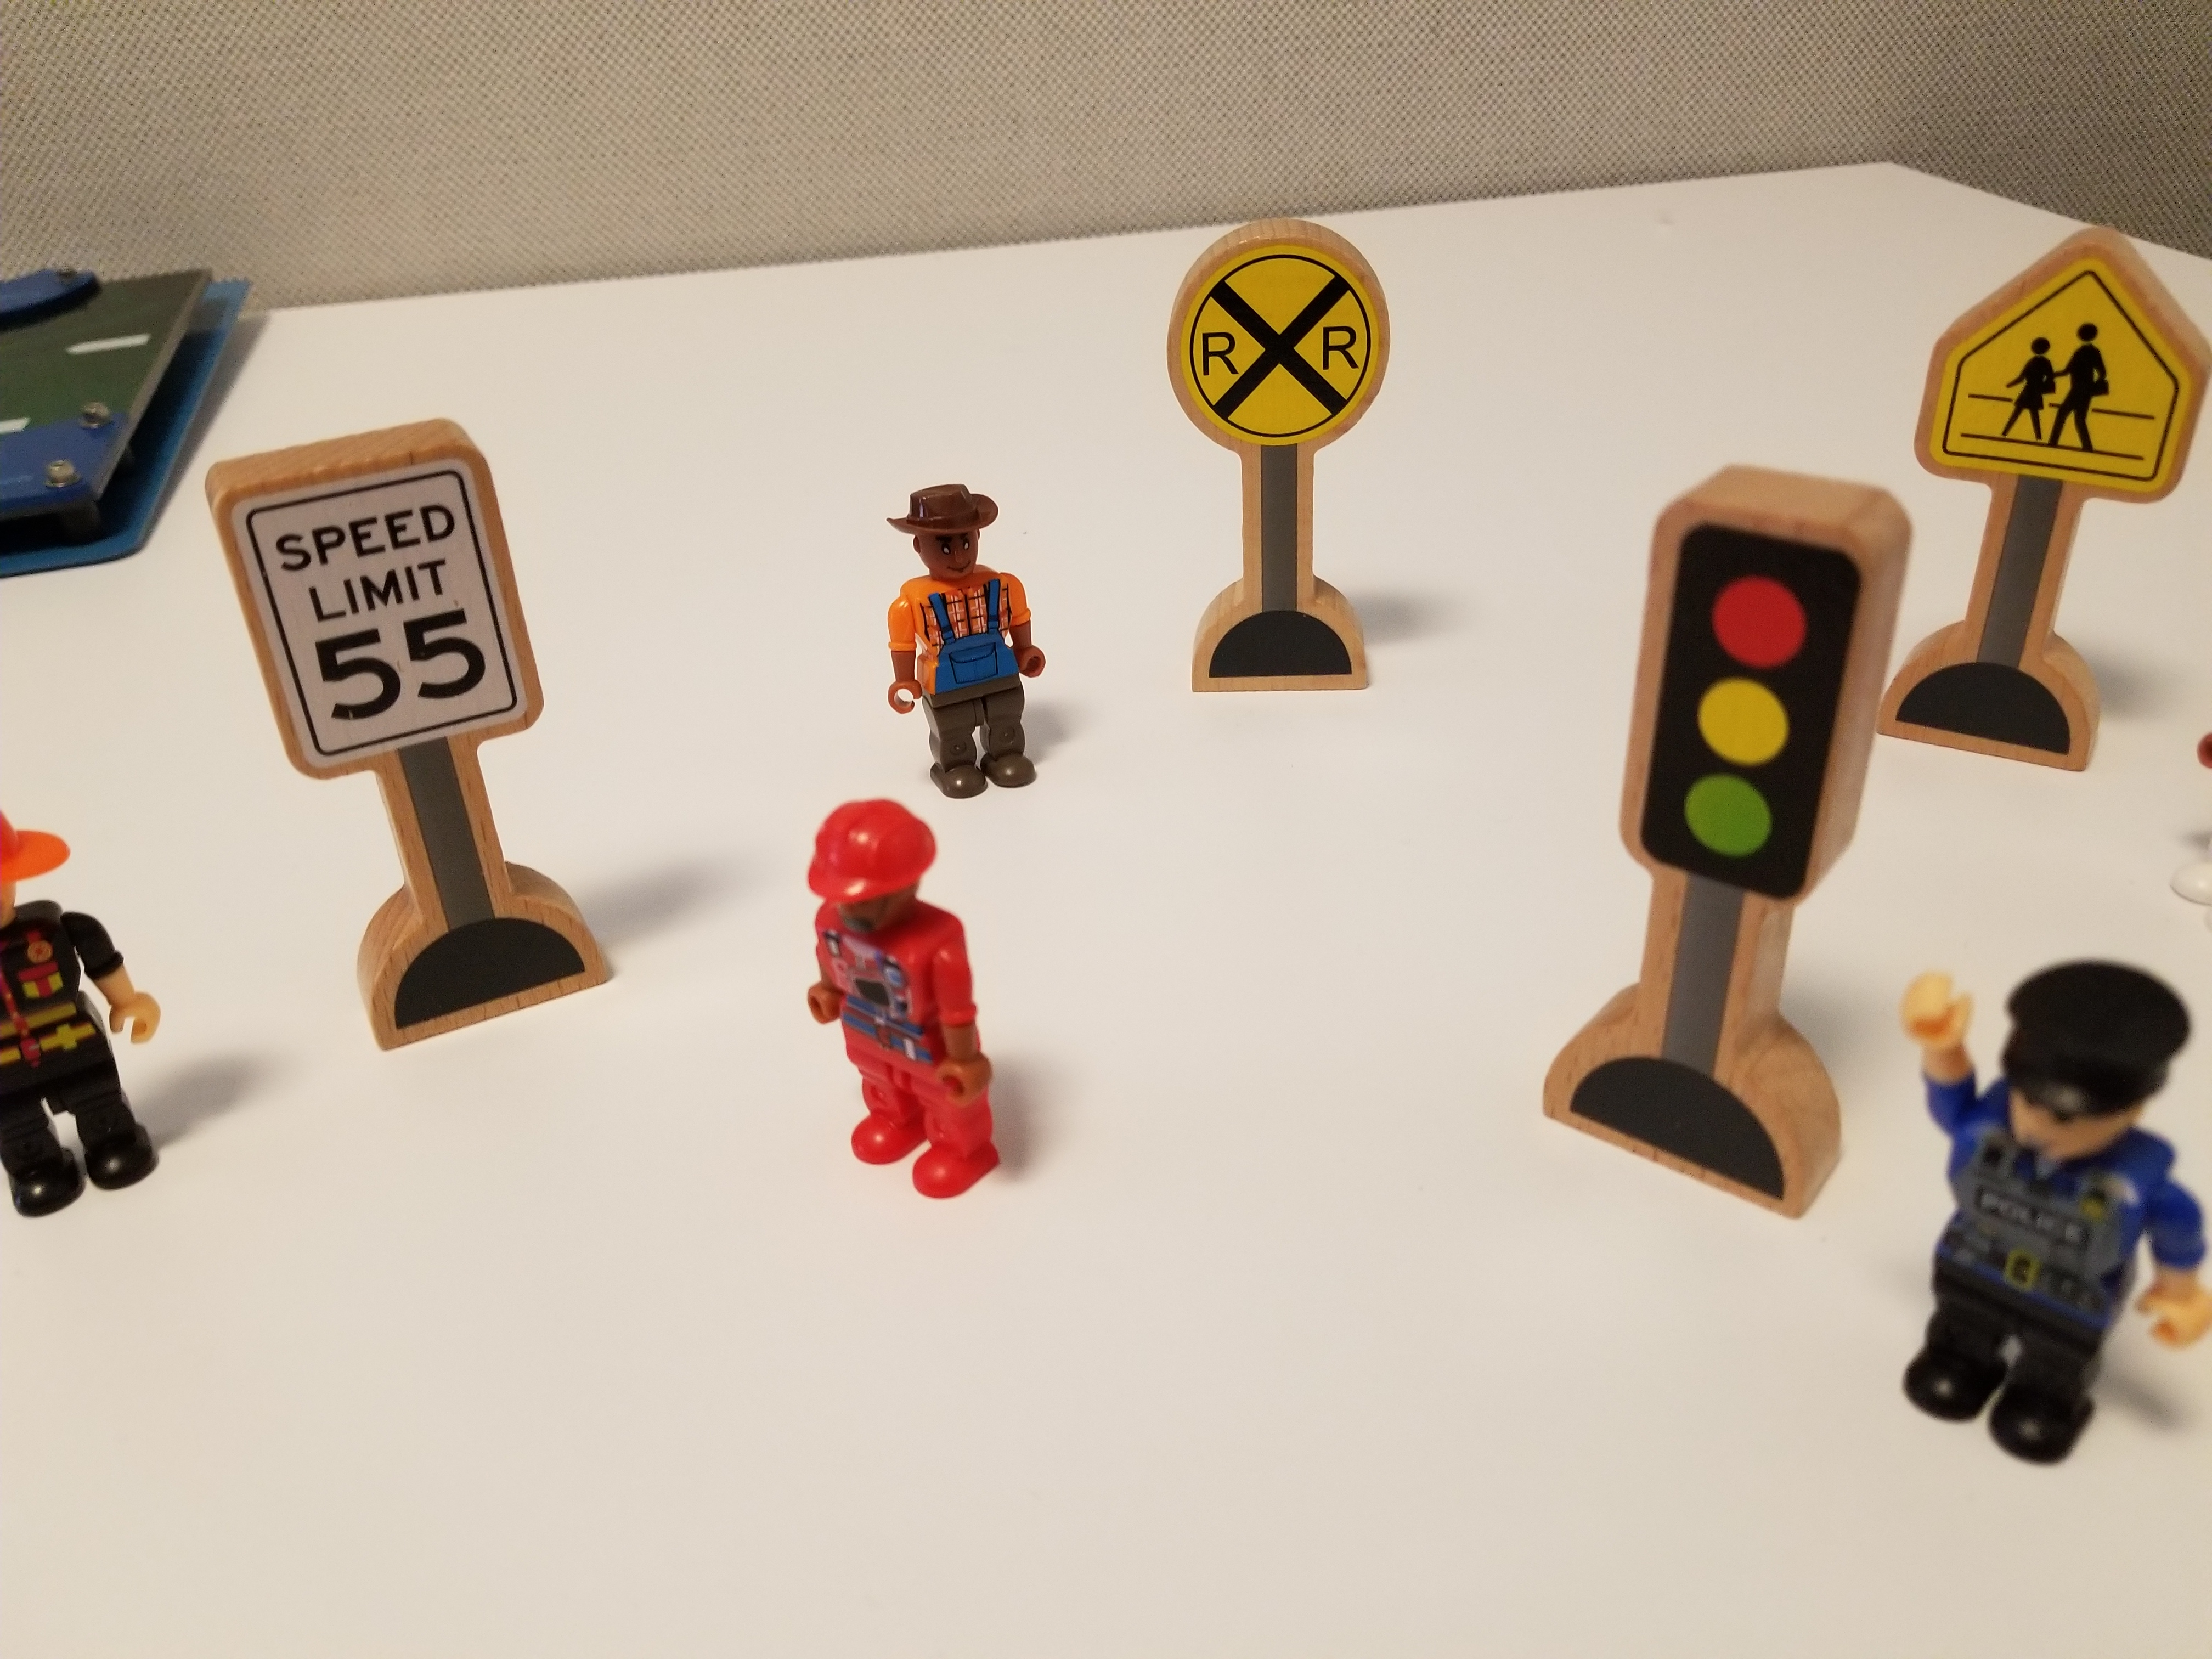Railroad Crossing: (1886, 131, 2212, 763), (1151, 201, 1423, 736)
Speed limit 55: (190, 447, 627, 1054)
Traffic Light: (1588, 411, 1875, 1294)
person: (1884, 899, 2207, 1467), (760, 771, 1041, 1195), (870, 469, 1101, 774)
